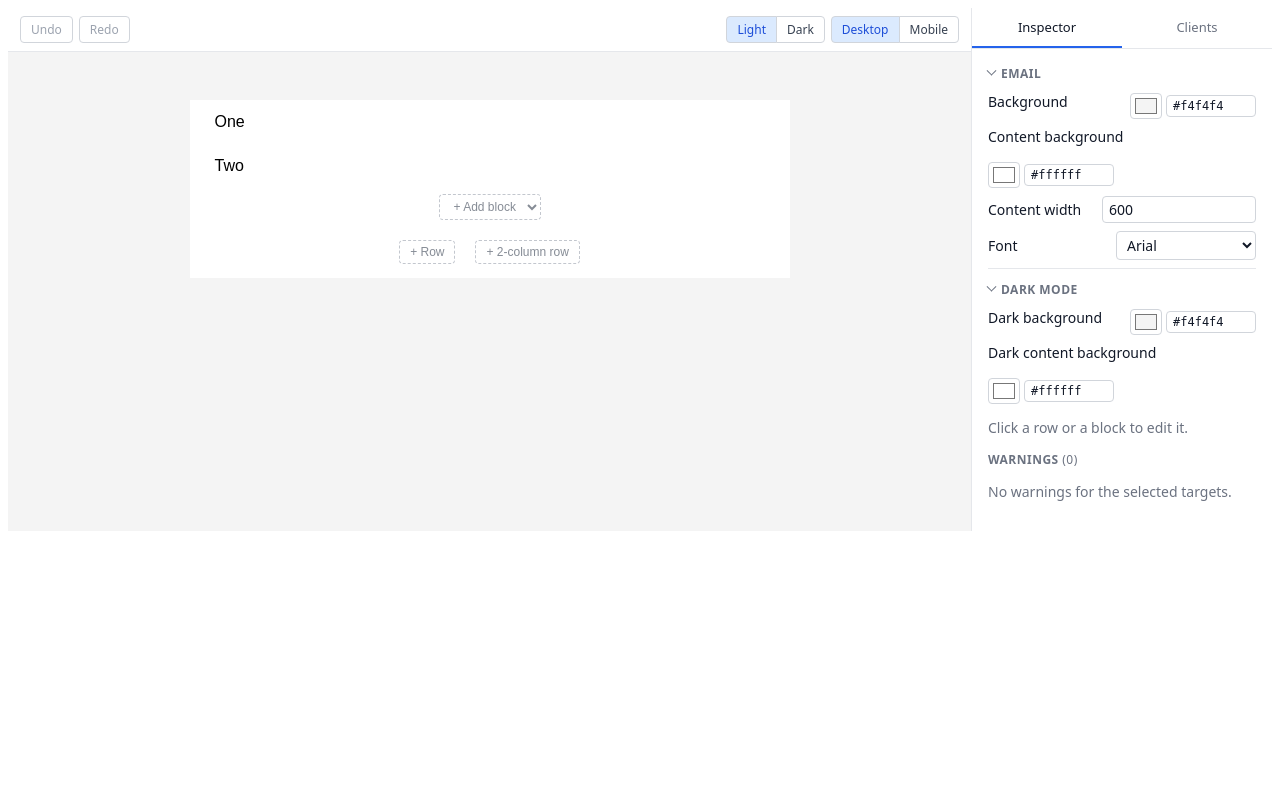
<MailBlocks /> reordering › disables moves past the ends of the column
Click the text box "One": (230, 122) [214,113,245,130]
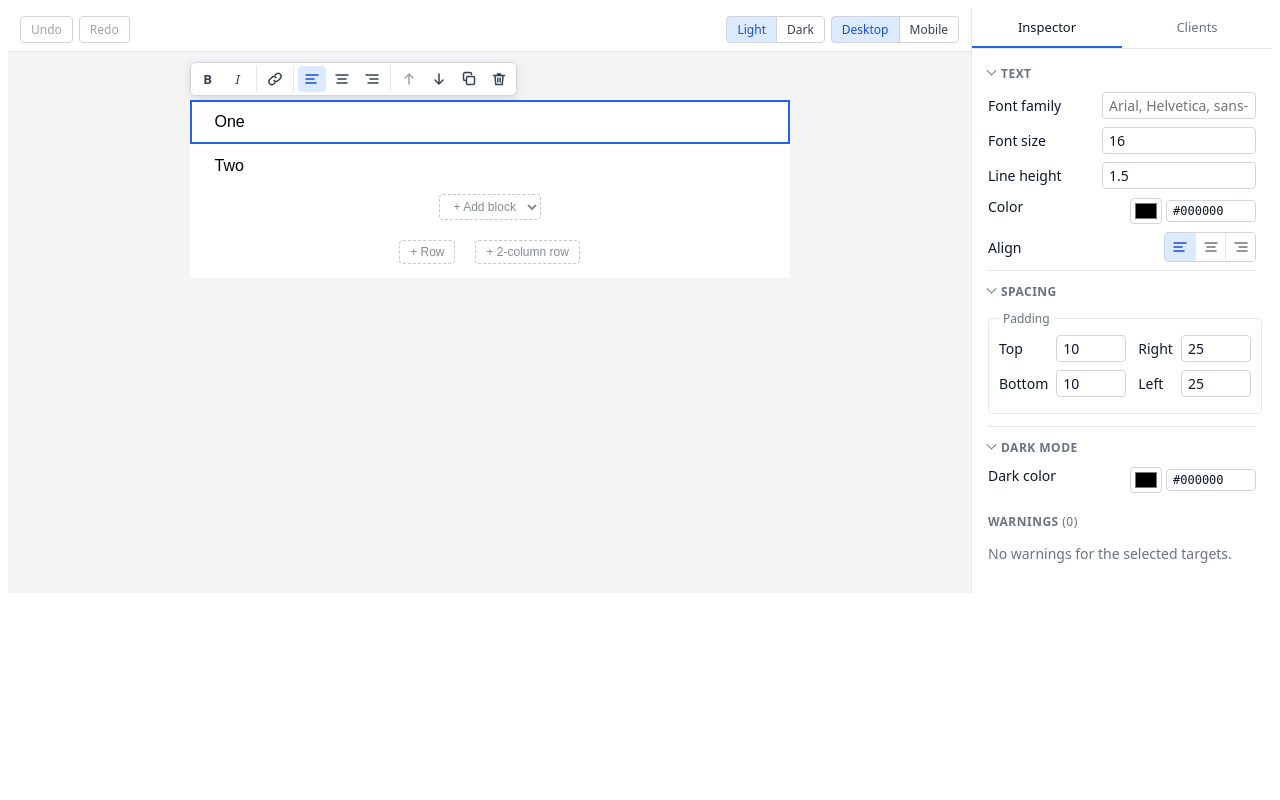
Expected: the button named "Move up" is disabled, [394,66,422,92]
Expected: the button named "Move down" is enabled, [424,66,452,92]
Click the text box "Two": (229, 166) [214,157,244,174]
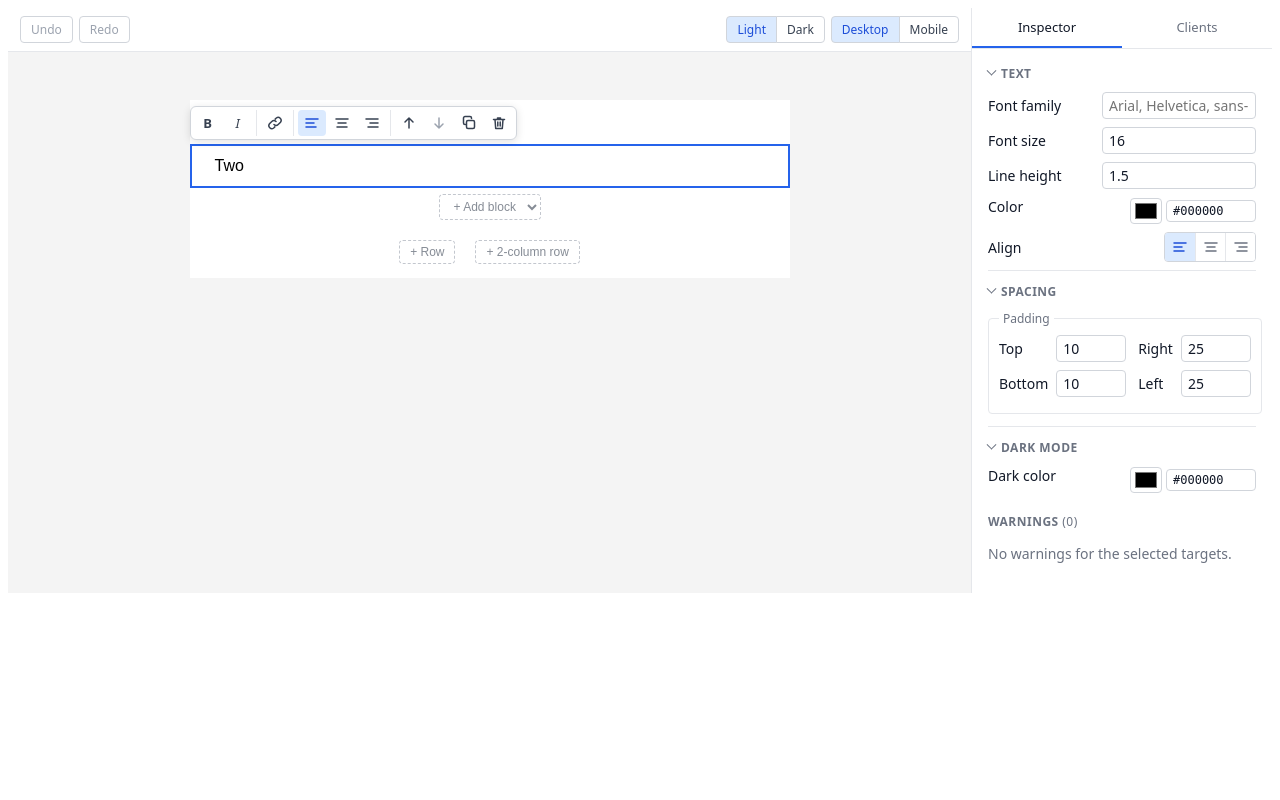
Expected: the button named "Move up" is enabled, [394,110,422,136]
Expected: the button named "Move down" is disabled, [424,110,452,136]
